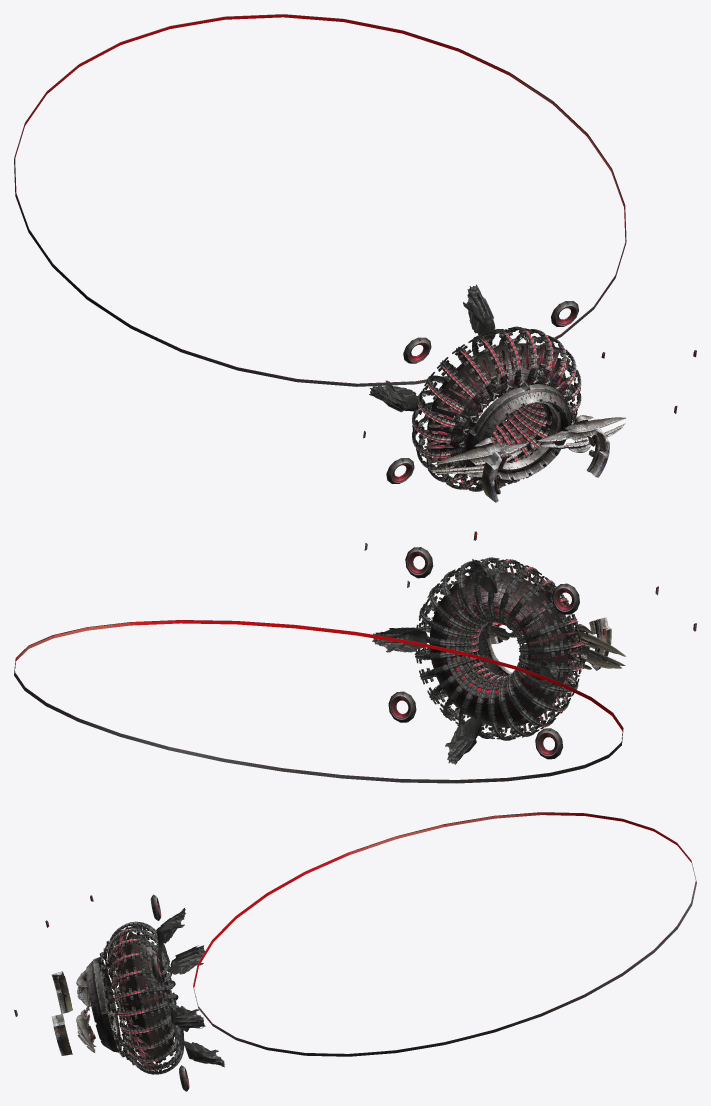
Rendered from eba003_hsta.glb.
3 views of the same model, one above another, from view 1: azimuth 30°, elevation 25°; view 2: azimuth 150°, elevation 25°; view 3: azimuth 270°, elevation 25° (orthographic). The views are drawn at different scales.
Visible parts, largest first — view 1: eba003_hsta; view 2: eba003_hsta; view 3: eba003_hsta.
Part boxes in pixels (x1,y1,x2,y2): eba003_hsta: (14, 14, 696, 502); eba003_hsta: (14, 531, 696, 783); eba003_hsta: (14, 812, 696, 1091).
Size of the model in its own units: 80.17 by 32.17 by 106.
10 materials, 10 textured.
